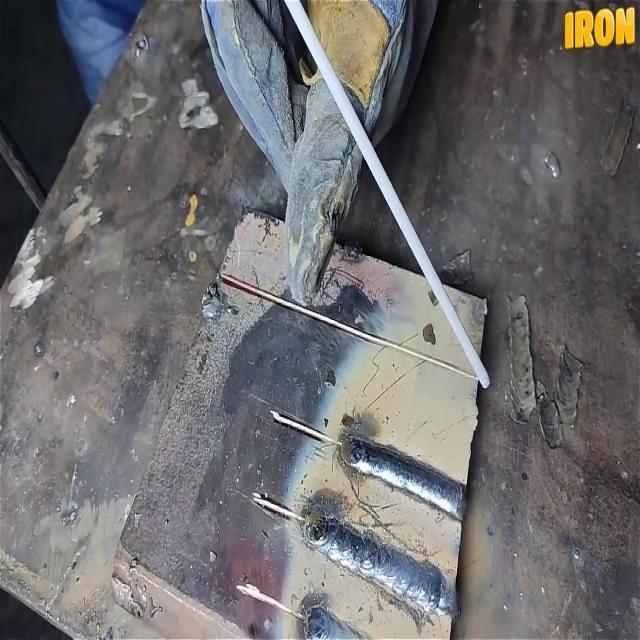Good Weld: (339, 534, 450, 612), (364, 448, 464, 506)
